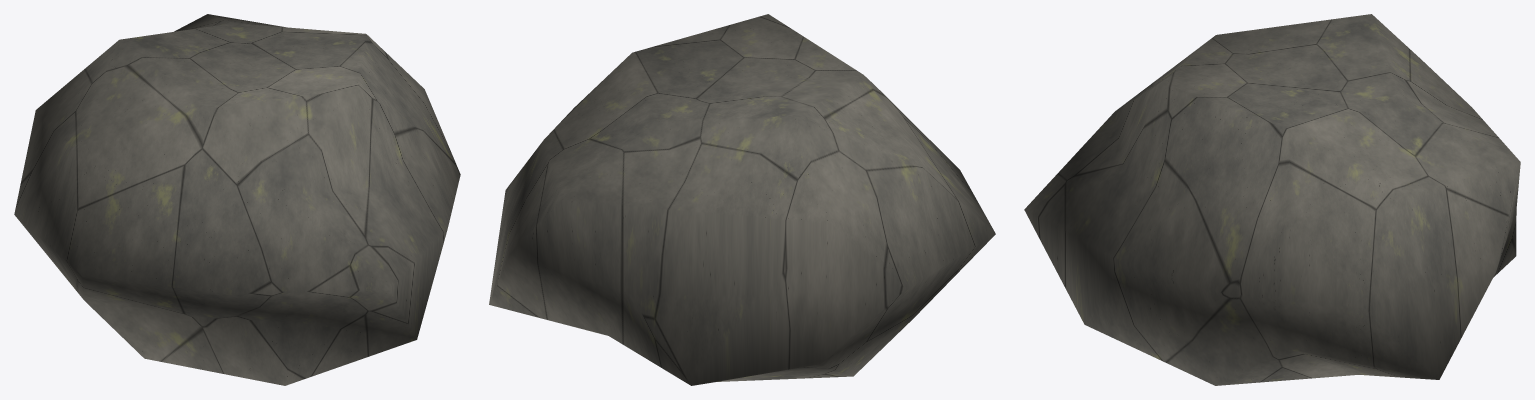
Rendered from Boulder_0.fbx.
The picture shows the model from 3 angles, left to right: view 1: azimuth 30°, elevation 25°; view 2: azimuth 150°, elevation 25°; view 3: azimuth 270°, elevation 25°; orthographic projection.
Parts seen in each view (by area): view 1: Boulder_0; view 2: Boulder_0; view 3: Boulder_0.
Boxes of the visible parts, bbox=[...] form: Boulder_0: bbox=[14, 14, 460, 385]; Boulder_0: bbox=[489, 14, 995, 385]; Boulder_0: bbox=[1024, 14, 1520, 385].
Size of the model in its own units: 1.68 by 1.11 by 1.74.
